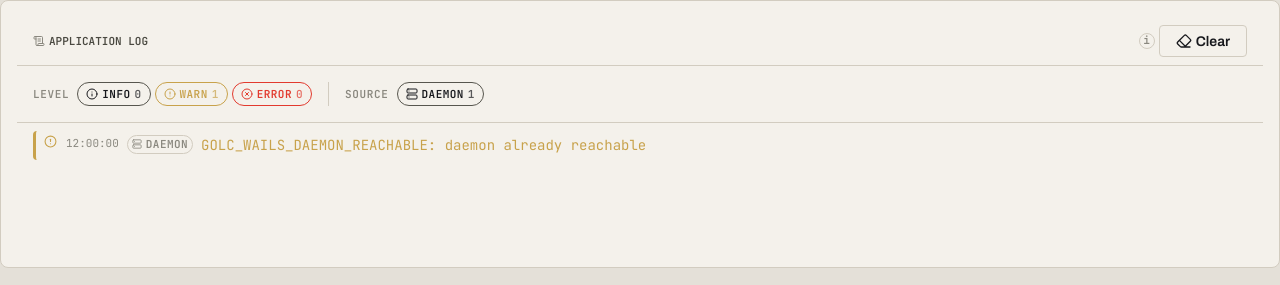
Scenario: AppLogPanel › shows an explicit message when every line is hidden by the current filters
Click the button "Warn 1": (191,94) [154,82,228,106]
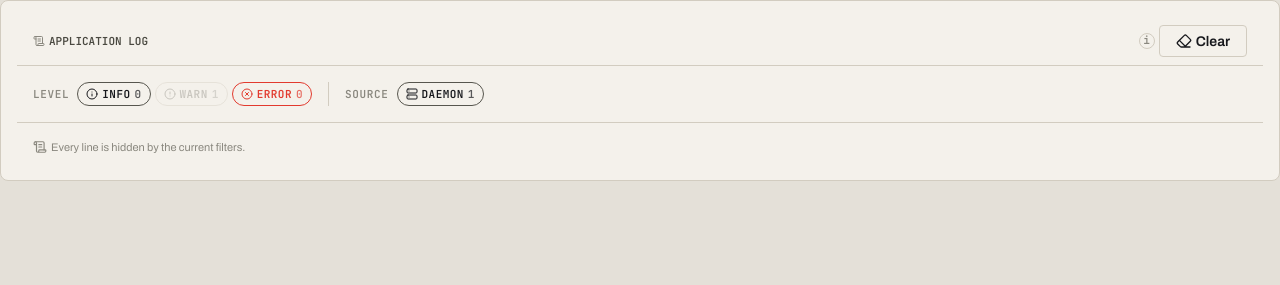
Expected: the text "Every line is hidden by the current filters." is shown, [33,140,245,154]
